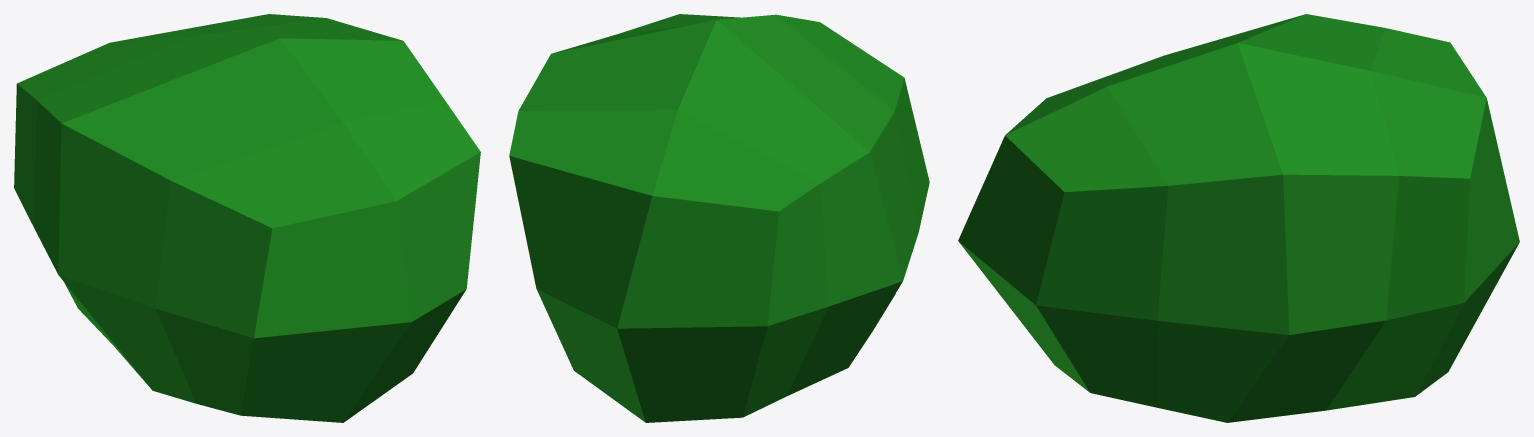
The model's file is bush.glb.
3 renders of one model, left to right at view 1: azimuth 30°, elevation 25°; view 2: azimuth 150°, elevation 25°; view 3: azimuth 270°, elevation 25°, orthographic. The views are drawn at different scales.
Parts seen in each view (by area): view 1: Cube; view 2: Cube; view 3: Cube.
Boxes of the visible parts, box(x1,y1,x2,y2) form: Cube: box(14, 14, 480, 422); Cube: box(509, 14, 929, 422); Cube: box(958, 14, 1519, 422).
Bounding box in the file's own units: 3.14 × 2.71 × 4.01.
